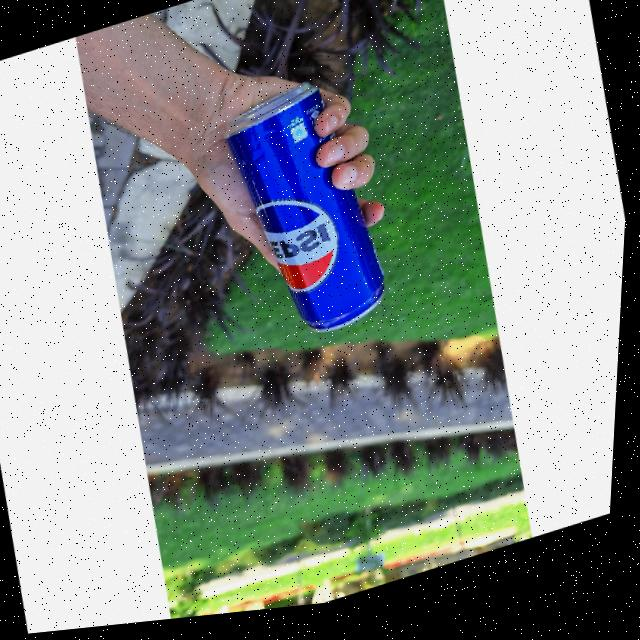Pepsi: (210, 72, 406, 363)
